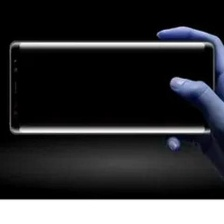phone: (5, 37, 219, 137)
